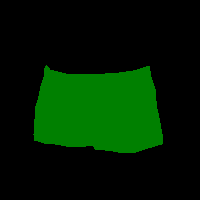mutande: (33, 64, 163, 153)
